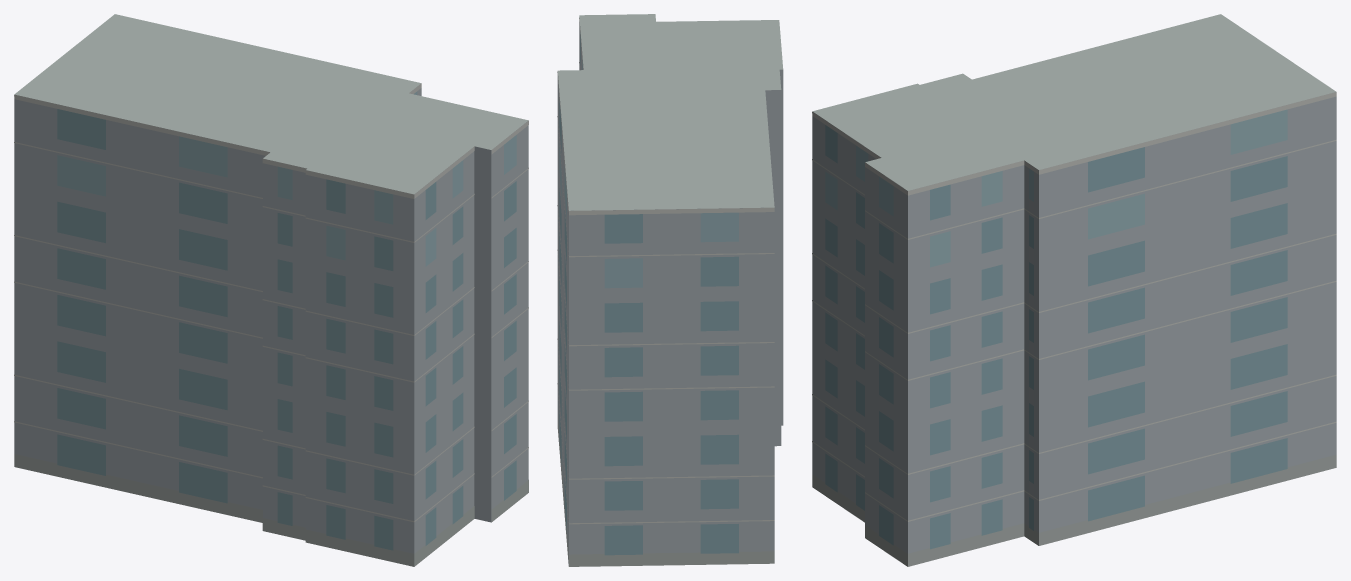
File: survey-upis-32998417.glb
3 views of the same model, side by side, from view 1: azimuth 30°, elevation 25°; view 2: azimuth 150°, elevation 25°; view 3: azimuth 270°, elevation 25° (orthographic). The views are drawn at different scales.
Parts seen in each view (by area): view 1: survey-upis-32998417.tmp; view 2: survey-upis-32998417.tmp; view 3: survey-upis-32998417.tmp.
Part boxes in pixels (box(x1,y1,x2,y2)): survey-upis-32998417.tmp: box(14, 14, 528, 566); survey-upis-32998417.tmp: box(557, 14, 783, 566); survey-upis-32998417.tmp: box(812, 14, 1336, 566).
Bounding box in the file's own units: 19.81 × 19.6 × 24.8.
